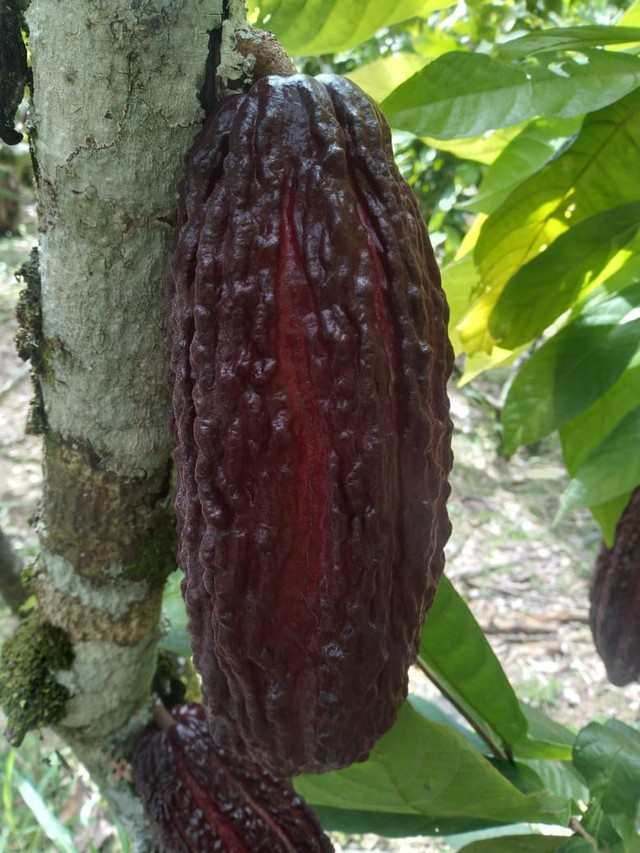Health: (121, 48, 486, 791)
